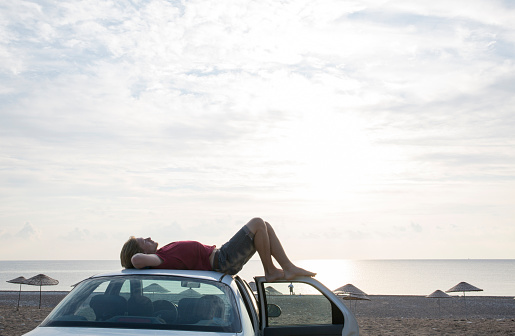deitado: (114, 180, 341, 320)
